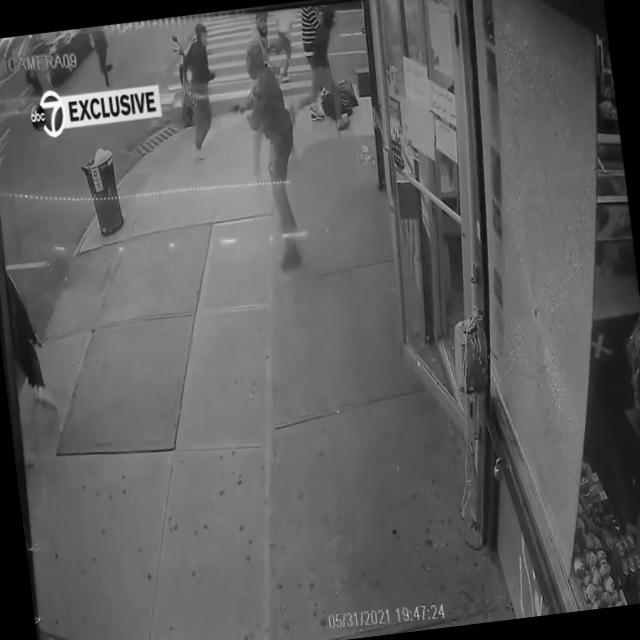gun: (227, 101, 246, 117)
person with a gun: (222, 43, 312, 276)
